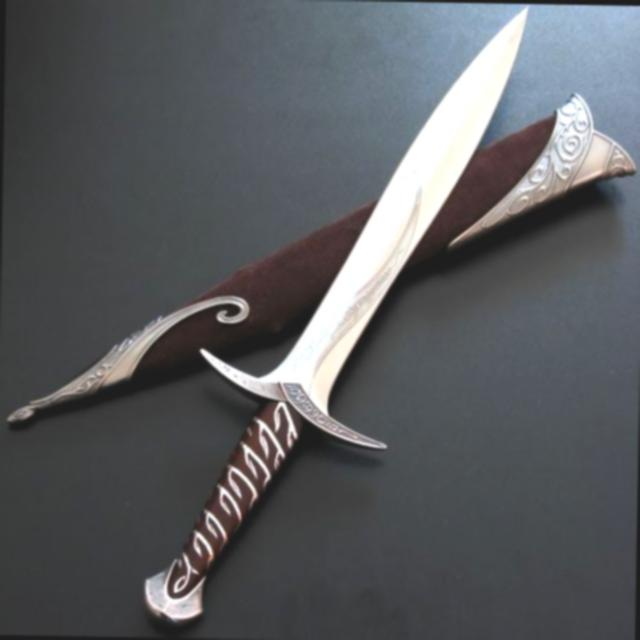short sword: (11, 0, 640, 640)
